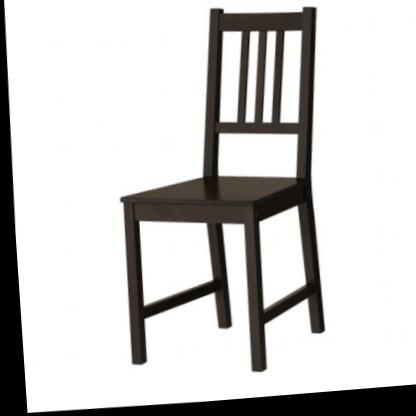Chair: (102, 0, 340, 387)
